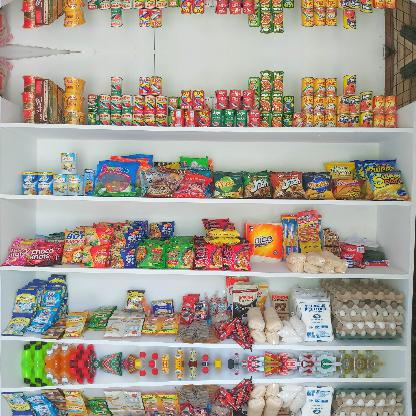Koko-Krunch: (34, 78, 64, 124), (34, 0, 65, 26)
